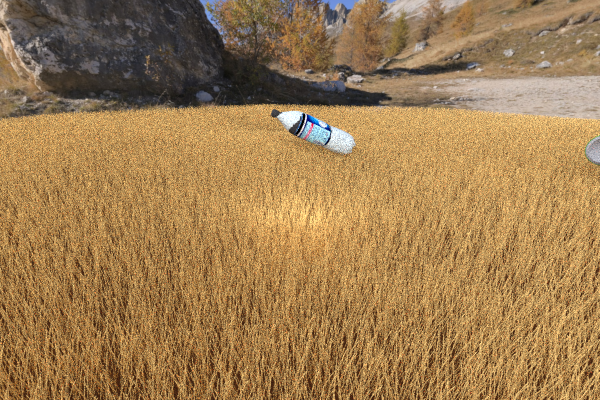bottle: (270, 108, 355, 155)
can: (155, 113, 193, 134), (584, 129, 600, 166)
